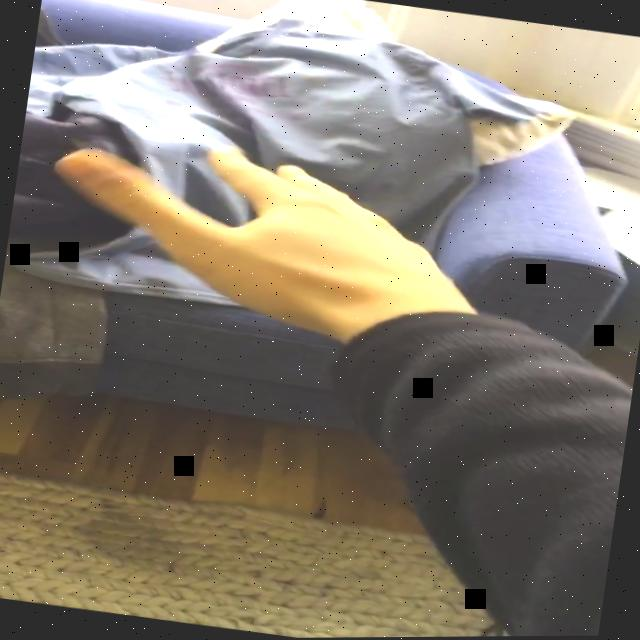Paper: (35, 119, 479, 354)
